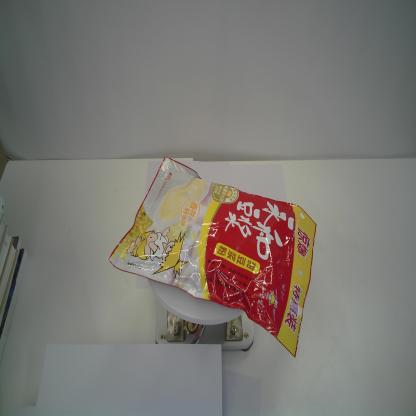Instant Drink: (107, 155, 316, 360)
